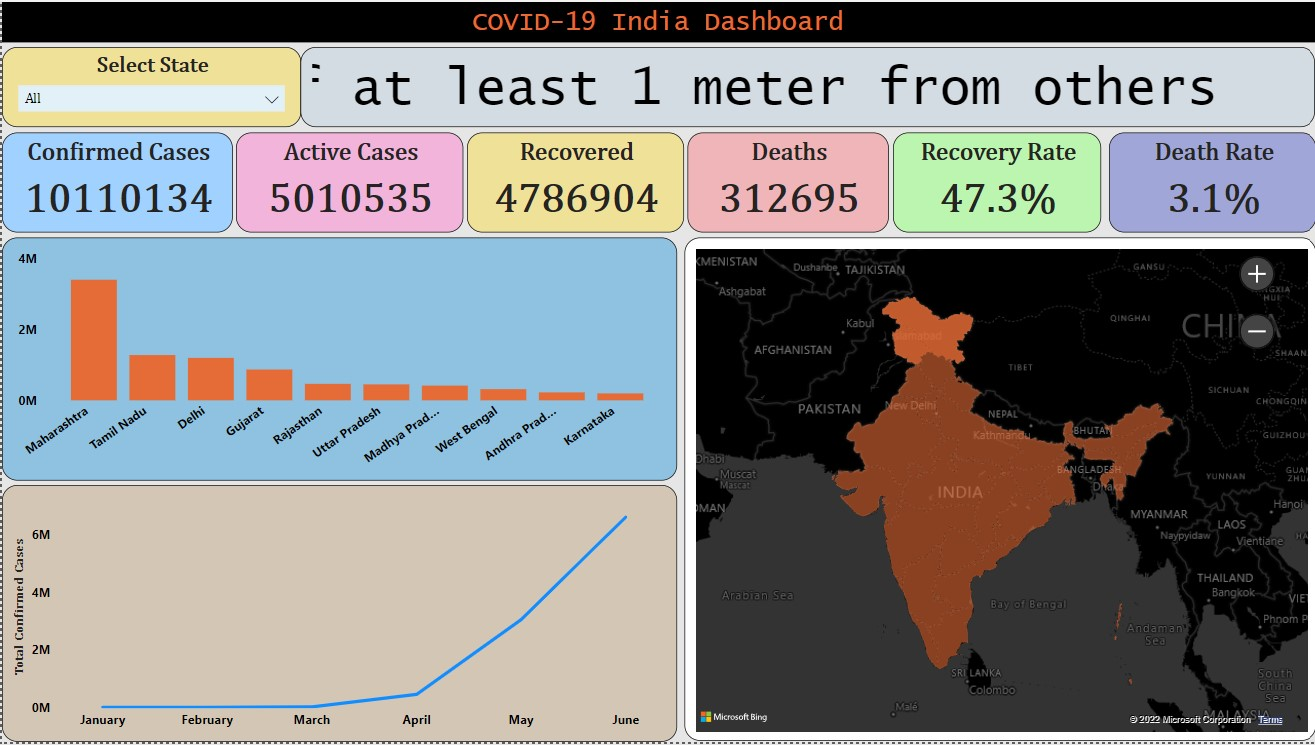

What the dashboard file says about the page in this screenshot:
{"tool":"powerbi","page":{"name":"Covid-19 India Dashboard","canvas":[1280,720],"ordinal":0},"visuals":[{"type":"slicer","title":"Select State","fields":{"Values":["covid19 india dataset.Name of State / UT"]},"box":[0,44.3,291.1,78.3],"z":0},{"type":"card","title":"Confirmed Cases","fields":{"Values":["Imp Measures.Total Cases"]},"box":[0,127.7,224.7,97],"z":1},{"type":"card","title":"Active Cases","fields":{"Values":["Imp Measures.Active Cases"]},"box":[228.1,127.7,221.3,97],"z":2},{"type":"card","title":"Deaths","fields":{"Values":["Imp Measures.Deaths"]},"box":[667.2,127.7,195.7,97],"z":3},{"type":"card","title":"Recovered","fields":{"Values":["Imp Measures.Recovered"]},"box":[452.8,127.7,211.1,97],"z":4},{"type":"card","title":"Recovery Rate","fields":{"Values":["Imp Measures.Recovery Rate"]},"box":[868.1,127.7,202.6,97],"z":7},{"type":"card","title":"Death Rate","fields":{"Values":["Imp Measures.Death rate"]},"box":[1077.4,127.7,202.6,97],"z":8},{"type":"lineChart","fields":{"Category":["covid19 india dataset.Date.Variation.Date Hierarchy.Month"],"Y":["Imp Measures.Total Confirmed Cases"]},"box":[0,469.8,657,250.2],"z":9},{"type":"filledMap","fields":{"Category":["covid19 india dataset.Name of State / UT"]},"box":[663.8,229.8,616.2,490.2],"z":10},{"type":"columnChart","fields":{"Category":["covid19 india dataset.Name of State / UT"],"Y":["Imp Measures.Total Confirmed Cases"]},"box":[0,229.8,657,236.6],"z":11},{"type":"ScrollingTextVisual1448795304508","fields":{"Category":["covid19 india dataset.Name of State / UT"],"Measure Absolute":["Imp Measures.Total Confirmed Cases"]},"box":[291.1,44.3,988.9,78.3],"z":12},{"type":"ScrollingTextVisual1448795304508","fields":{"Measure Absolute":["Imp Measures.Total Confirmed Cases"],"Category":["covid19 india dataset.Name of State / UT"]},"box":[0,0,1280,39.1],"z":14}]}

Visuals, with their boxes in screenshot pixels (x1, y1, x2, y2), scaled from the page's 1280x720 canvas onto the 1315x745 screenshot:
"Select State" slicer: box=[0, 46, 299, 127]
"Confirmed Cases" card: box=[0, 132, 231, 233]
"Active Cases" card: box=[234, 132, 462, 233]
"Deaths" card: box=[685, 132, 886, 233]
"Recovered" card: box=[465, 132, 682, 233]
"Recovery Rate" card: box=[892, 132, 1100, 233]
"Death Rate" card: box=[1107, 132, 1314, 233]
lineChart - covid19 india dataset.Date.Variation.Date Hierarchy.Month x Imp Measures.Total Confirmed Cases: box=[0, 486, 675, 744]
filledMap - covid19 india dataset.Name of State / UT: box=[682, 238, 1314, 744]
columnChart - covid19 india dataset.Name of State / UT x Imp Measures.Total Confirmed Cases: box=[0, 238, 675, 483]
ScrollingTextVisual1448795304508 - covid19 india dataset.Name of State / UT x Imp Measures.Total Confirmed Cases: box=[299, 46, 1314, 127]
ScrollingTextVisual1448795304508 - Imp Measures.Total Confirmed Cases x covid19 india dataset.Name of State / UT: box=[0, 0, 1314, 40]
